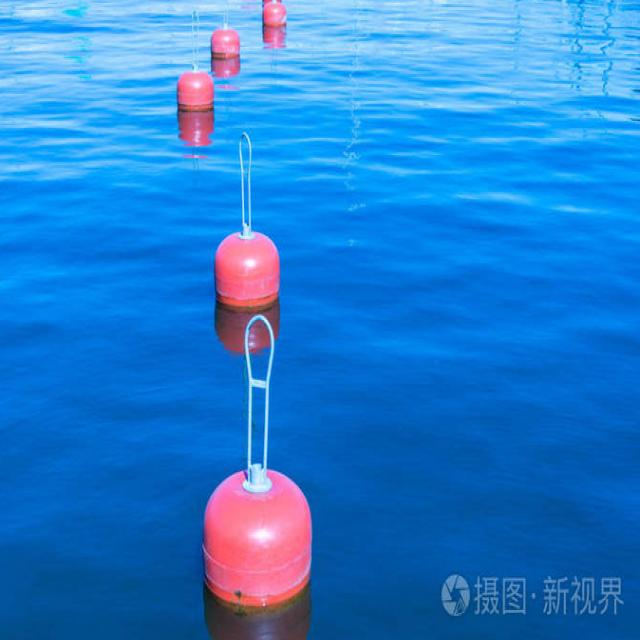buoy: (204, 310, 316, 604), (215, 132, 288, 304), (175, 4, 216, 112), (209, 0, 240, 57), (258, 0, 285, 27)
